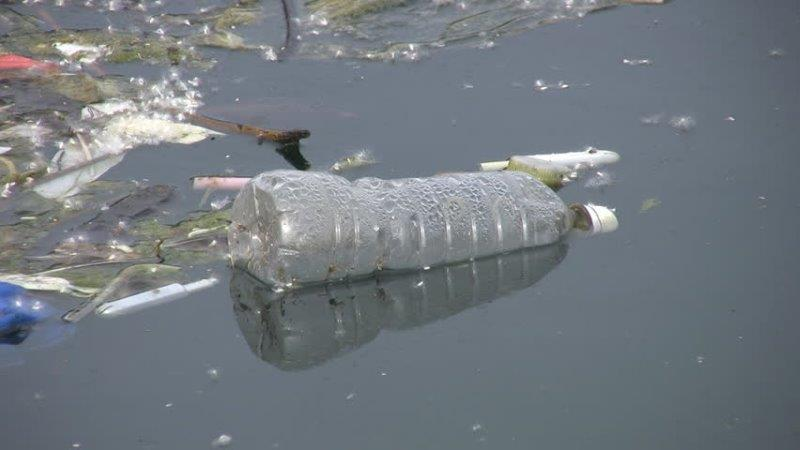plastic: (222, 166, 620, 293)
